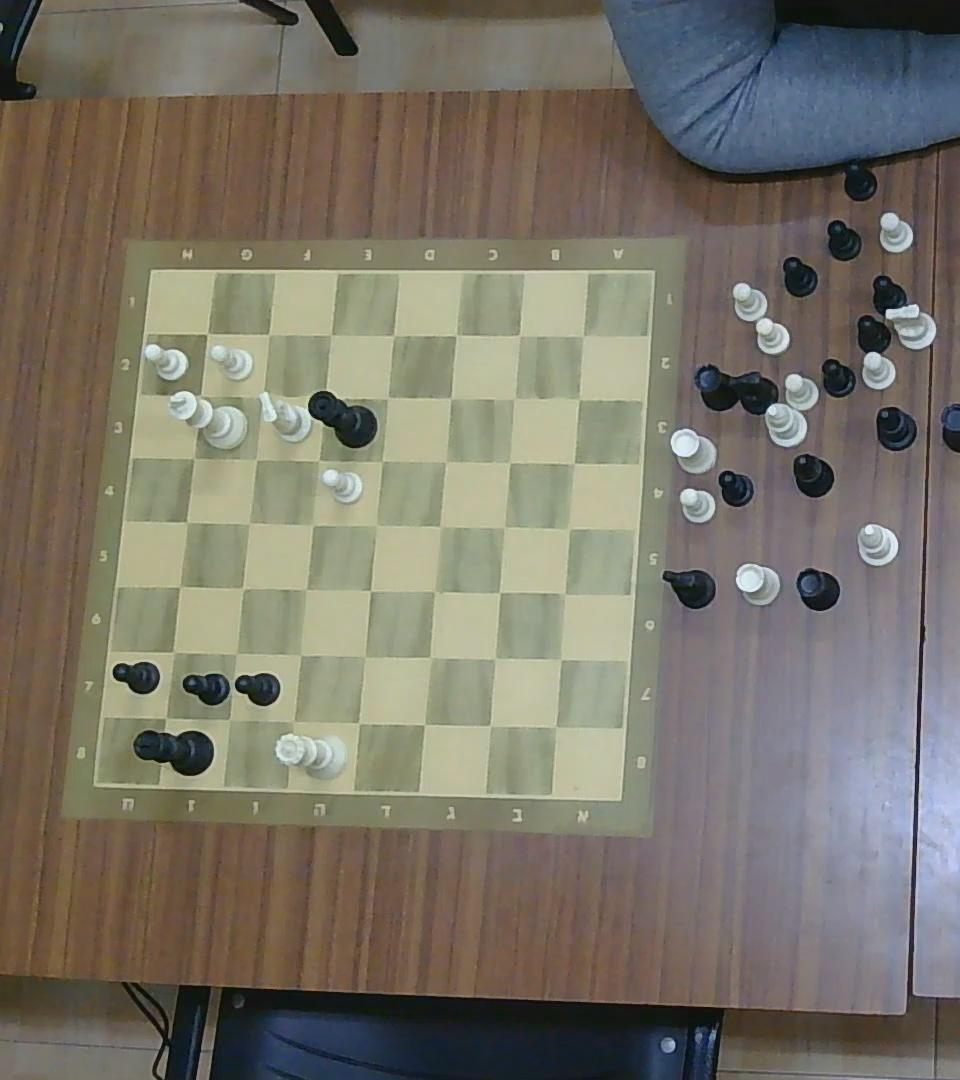xcorner: (477, 712, 503, 738), (246, 383, 272, 409), (542, 714, 569, 739), (412, 711, 437, 736), (418, 645, 442, 670), (281, 708, 305, 732), (482, 647, 506, 671), (347, 710, 371, 734), (288, 642, 311, 666), (353, 644, 376, 668), (154, 706, 178, 728), (218, 709, 240, 731), (319, 324, 341, 346), (439, 387, 461, 408), (371, 449, 392, 471), (549, 648, 571, 668), (188, 386, 210, 406), (225, 642, 245, 663), (423, 581, 443, 602), (499, 450, 519, 471), (183, 447, 203, 467), (429, 516, 449, 536), (259, 324, 279, 344), (445, 325, 465, 345), (383, 325, 403, 345), (367, 514, 386, 535), (296, 578, 315, 599), (170, 576, 189, 597), (378, 388, 397, 408), (435, 450, 454, 470), (361, 580, 380, 600), (489, 582, 508, 602), (560, 518, 579, 538), (177, 511, 196, 531), (164, 641, 183, 661), (315, 386, 334, 406), (248, 448, 266, 469), (240, 513, 259, 532), (198, 324, 217, 343), (555, 584, 574, 603), (303, 514, 321, 534), (495, 516, 513, 536), (309, 450, 327, 470), (233, 579, 251, 598), (573, 326, 591, 345), (511, 326, 529, 345), (565, 453, 583, 471), (505, 389, 523, 406), (572, 390, 588, 406)
